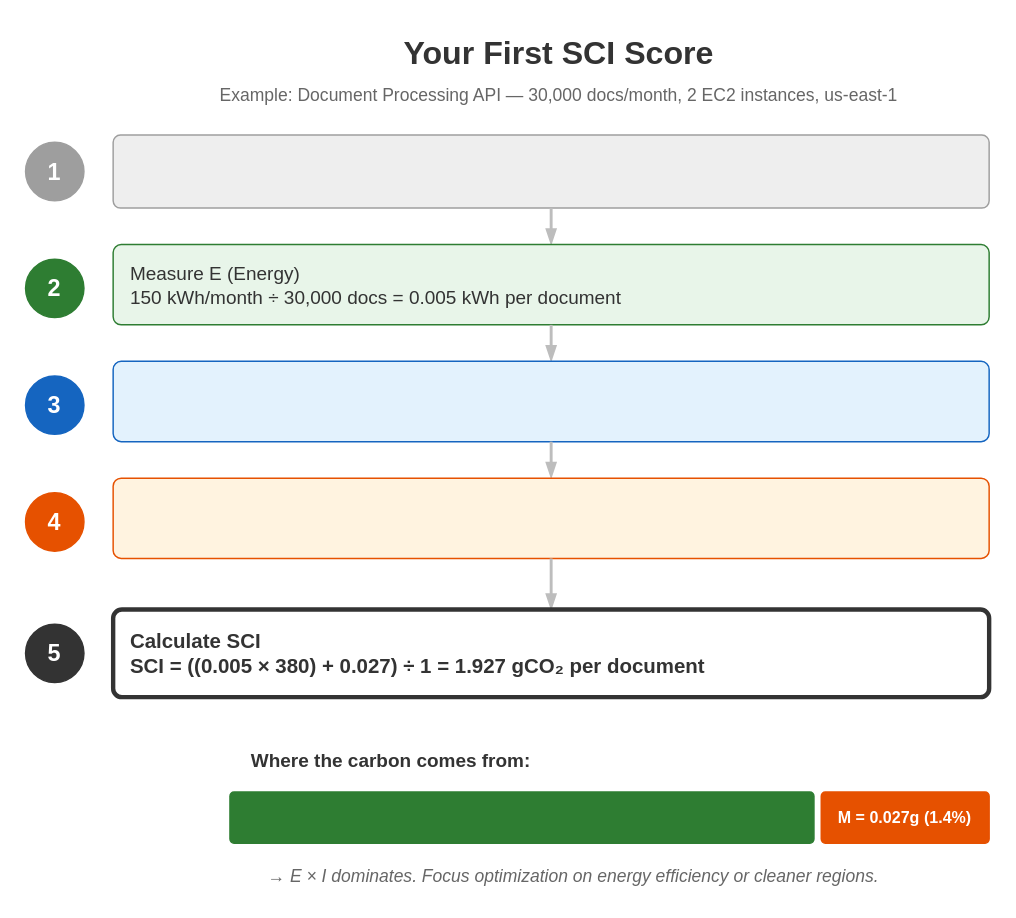
Image size: 1016x918. Some labels were removed from this diagram. Here are the shapes that lost their labels. From the top down, the box of each, then its label:
(112, 134, 989, 208): Define R per document processed
(112, 360, 989, 442): Get I (Carbon Intensity) us-east-1 → PJM grid → ~380 gCO₂/kWh
(112, 477, 989, 558): Estimate M (Embodied) 0.8 kgCO₂/month ÷ 30,000 docs = 0.027g per document
(228, 791, 814, 843): E × I = 1.9g (98.6%)
